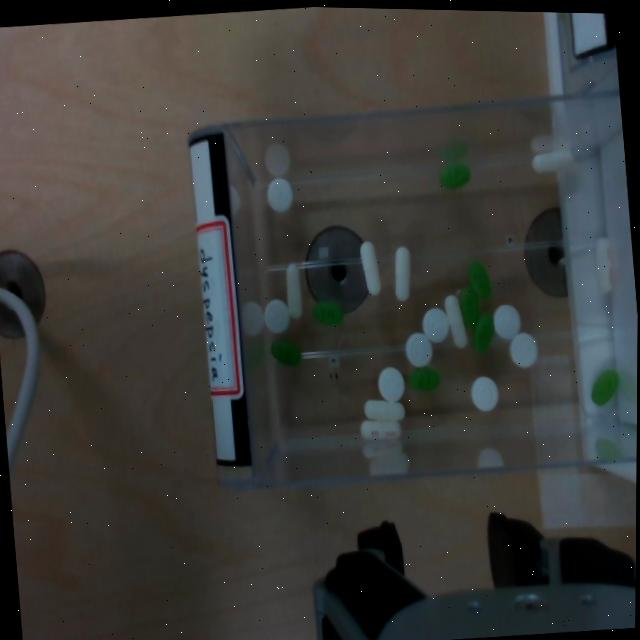magmil_tab: (508, 332, 537, 367), (421, 307, 449, 343), (492, 303, 520, 339), (470, 376, 498, 411), (404, 332, 432, 366), (377, 366, 404, 401), (263, 298, 289, 333), (266, 178, 292, 211)
medilacsenteric_tab: (444, 294, 466, 348), (359, 240, 380, 294), (594, 237, 612, 293), (531, 148, 572, 172), (285, 263, 302, 317), (394, 246, 410, 300), (363, 399, 404, 420), (360, 419, 400, 438)
nexilen_tab: (590, 368, 618, 406), (458, 287, 479, 330), (439, 162, 470, 189), (468, 260, 490, 298), (270, 339, 301, 365), (472, 313, 493, 351), (409, 365, 439, 390), (312, 300, 342, 324)
